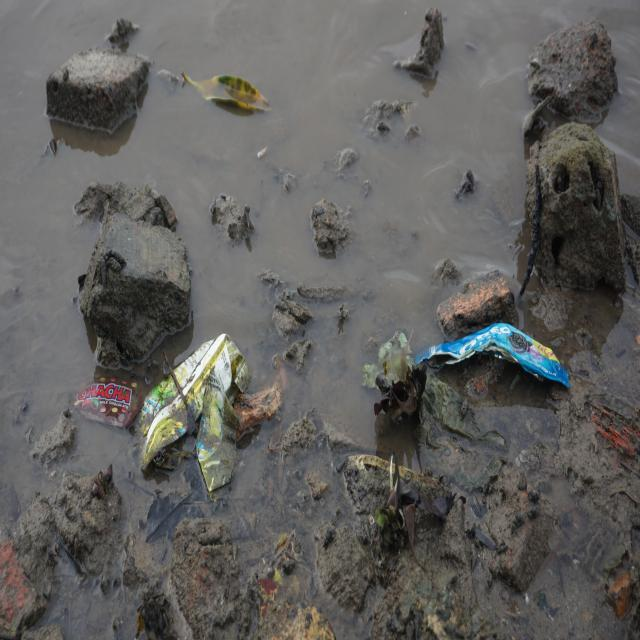Bungkus Makanan: (139, 332, 255, 494), (411, 317, 572, 403), (74, 369, 144, 437)
